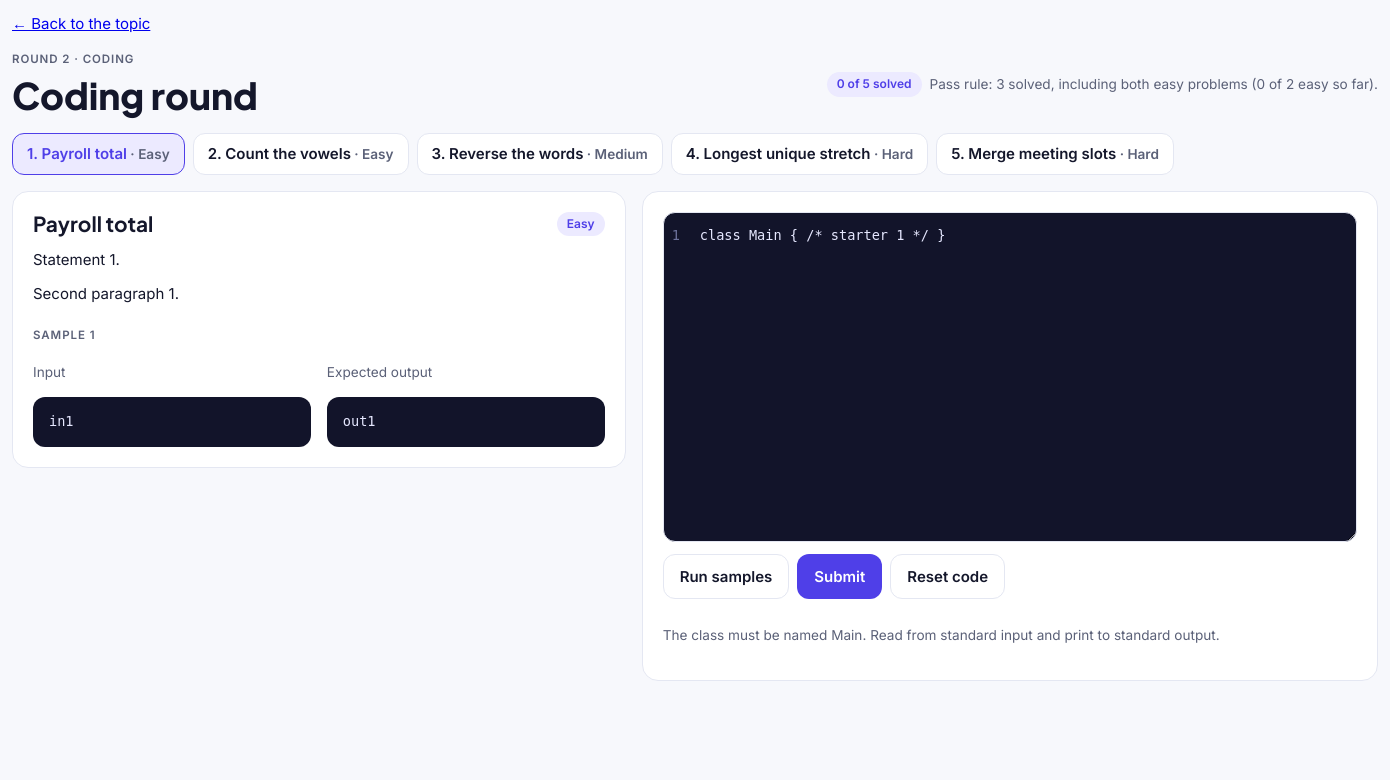
writing and running code › keeps each problem its own code when switching tabs
Replace the text in the text box named "Java code" with "first" at (1022,377), box [688,212,1356,541]
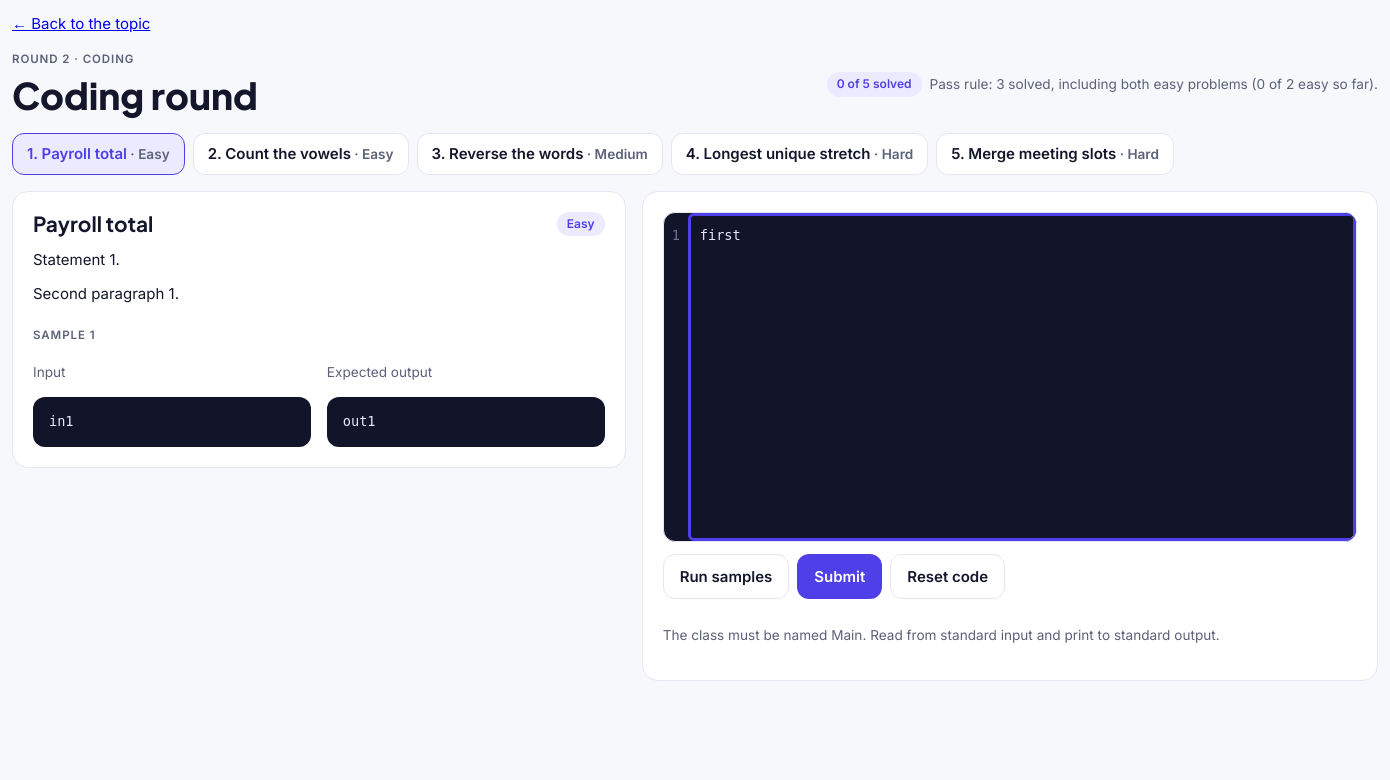
Click the tab "2. Count the vowels · Easy".
click(301, 154)  # box [193,133,409,175]
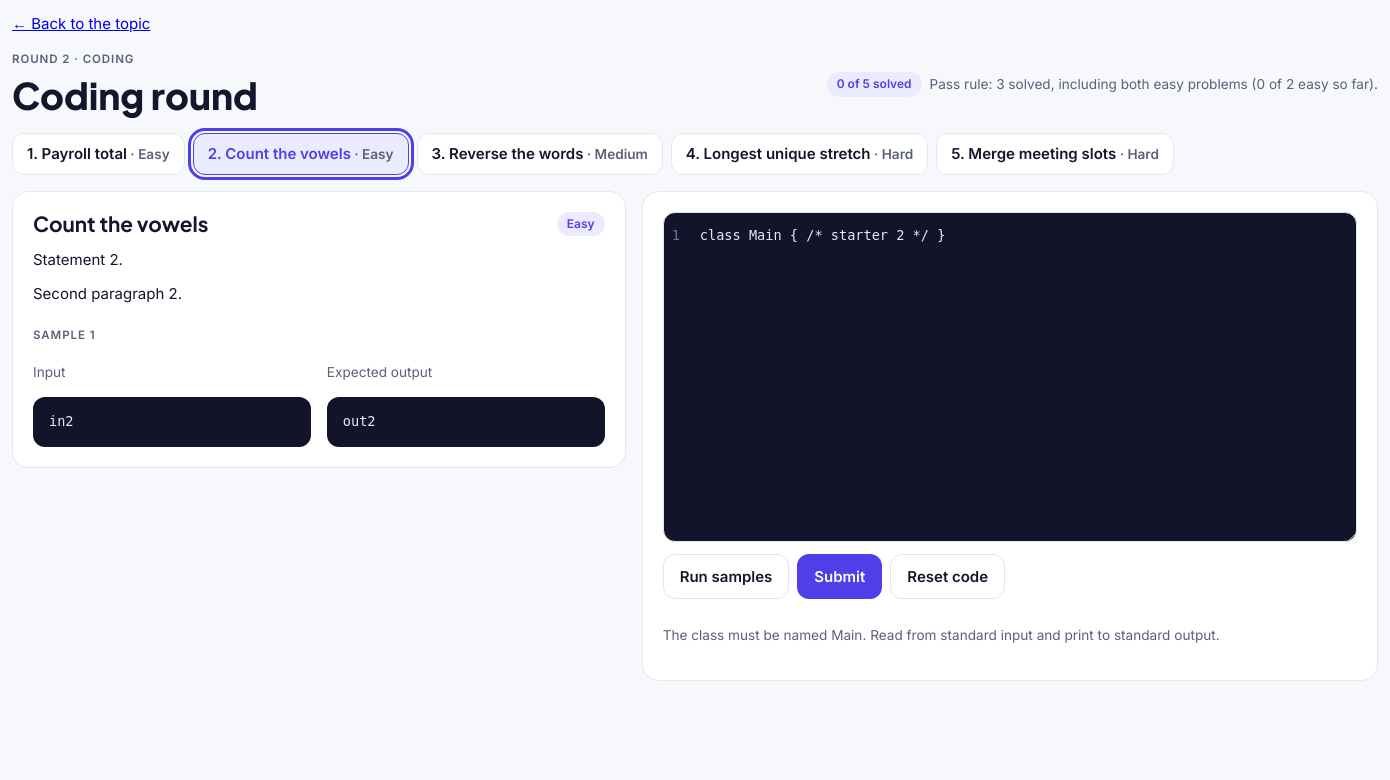
Now the text box named "Java code" holds "class Main { /* starter 2 */ }", box [688,212,1356,541]
Click the tab "1. Payroll total · Easy".
click(98, 154)  # box [12,133,185,175]
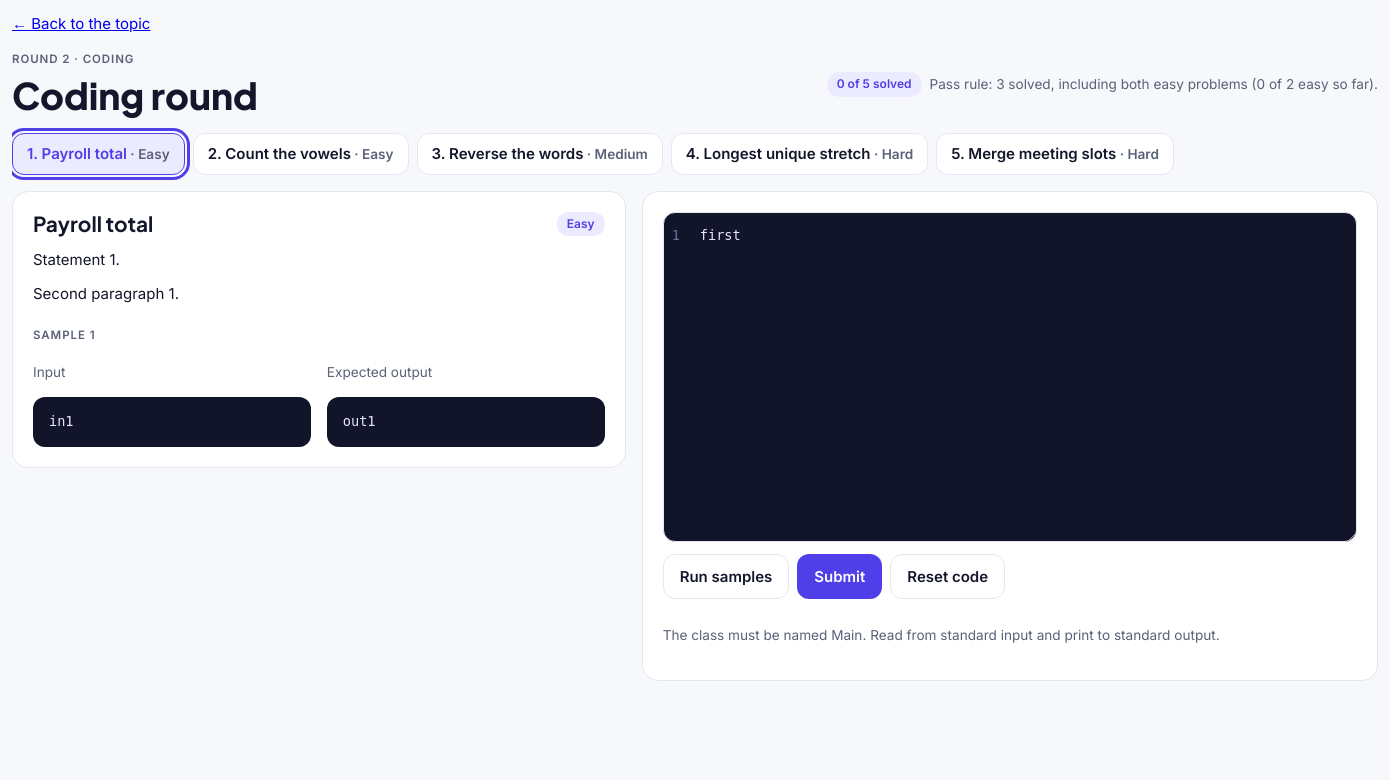
Now the text box named "Java code" holds "first", box [688,212,1356,541]
